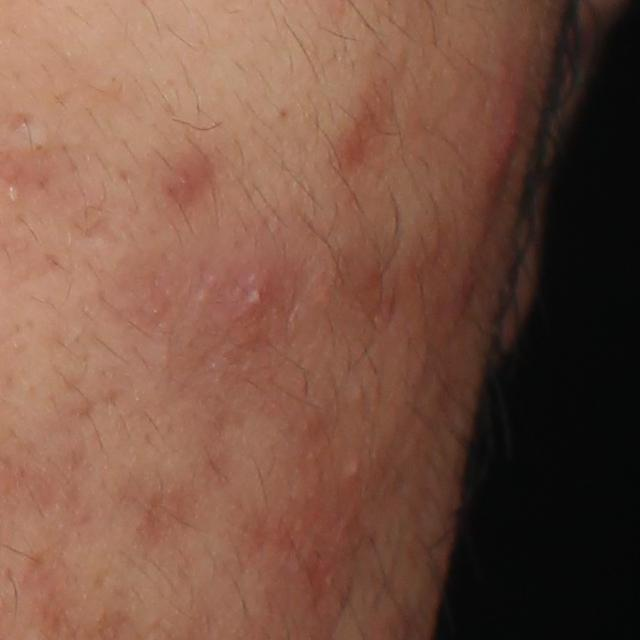atrophic_scar: (7, 109, 35, 134)
comedo: (343, 450, 369, 476)
